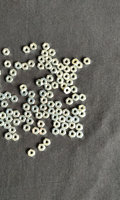nut: (28, 149, 36, 158), (43, 139, 51, 147), (76, 131, 84, 139), (52, 128, 60, 136), (59, 128, 67, 136), (35, 112, 43, 120), (55, 108, 63, 116), (72, 108, 80, 116), (66, 98, 74, 106), (72, 94, 80, 102), (28, 60, 36, 68), (70, 73, 78, 81), (63, 58, 71, 66), (38, 145, 46, 152), (5, 133, 12, 141), (12, 134, 19, 142), (69, 131, 77, 138), (23, 125, 31, 132), (32, 128, 40, 135), (40, 128, 47, 136), (37, 121, 45, 128), (4, 122, 11, 130), (54, 121, 61, 129), (69, 122, 76, 130), (26, 118, 34, 125), (13, 119, 21, 126), (5, 116, 13, 123), (6, 109, 14, 116), (24, 111, 32, 118), (42, 112, 50, 119), (66, 115, 73, 123), (73, 116, 80, 124), (48, 108, 56, 115), (63, 109, 70, 117), (55, 101, 63, 108), (1, 101, 9, 108), (28, 91, 36, 98), (4, 92, 11, 100), (40, 90, 47, 98), (47, 91, 54, 99), (80, 94, 87, 102), (71, 86, 78, 94), (66, 79, 74, 86), (52, 82, 59, 90), (46, 75, 54, 82), (6, 76, 14, 83), (10, 69, 17, 77), (4, 61, 12, 68), (15, 62, 22, 70), (22, 63, 29, 71), (23, 46, 30, 54), (30, 43, 37, 51), (37, 63, 45, 70), (50, 67, 58, 74), (45, 63, 53, 70), (70, 66, 78, 73), (72, 59, 80, 66), (64, 65, 71, 73), (57, 63, 65, 70), (45, 56, 53, 63), (41, 50, 49, 57), (9, 127, 16, 134), (62, 123, 69, 130), (76, 124, 83, 131), (19, 116, 26, 123), (13, 111, 20, 118), (52, 114, 59, 121), (59, 116, 66, 123), (79, 105, 86, 112), (32, 106, 39, 113), (40, 104, 47, 111), (48, 101, 55, 108), (23, 104, 30, 111), (28, 98, 35, 105), (20, 85, 27, 92), (11, 96, 18, 103), (41, 97, 48, 104), (64, 87, 71, 94), (61, 83, 68, 90), (45, 84, 52, 91), (36, 80, 43, 87), (41, 78, 48, 85), (57, 77, 64, 84), (3, 49, 10, 56), (38, 56, 45, 63), (63, 73, 70, 80), (84, 58, 91, 65), (76, 62, 83, 69), (52, 59, 59, 66), (49, 49, 56, 56), (43, 43, 50, 50), (0, 112, 6, 120), (56, 71, 64, 77), (79, 112, 86, 118), (20, 91, 28, 96), (0, 93, 5, 101), (0, 120, 5, 127)
